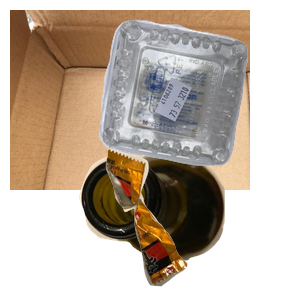cardboard: (10, 10, 250, 190)
glass: (77, 147, 295, 300)
plastic: (97, 17, 300, 176)
trash: (103, 147, 300, 300)
